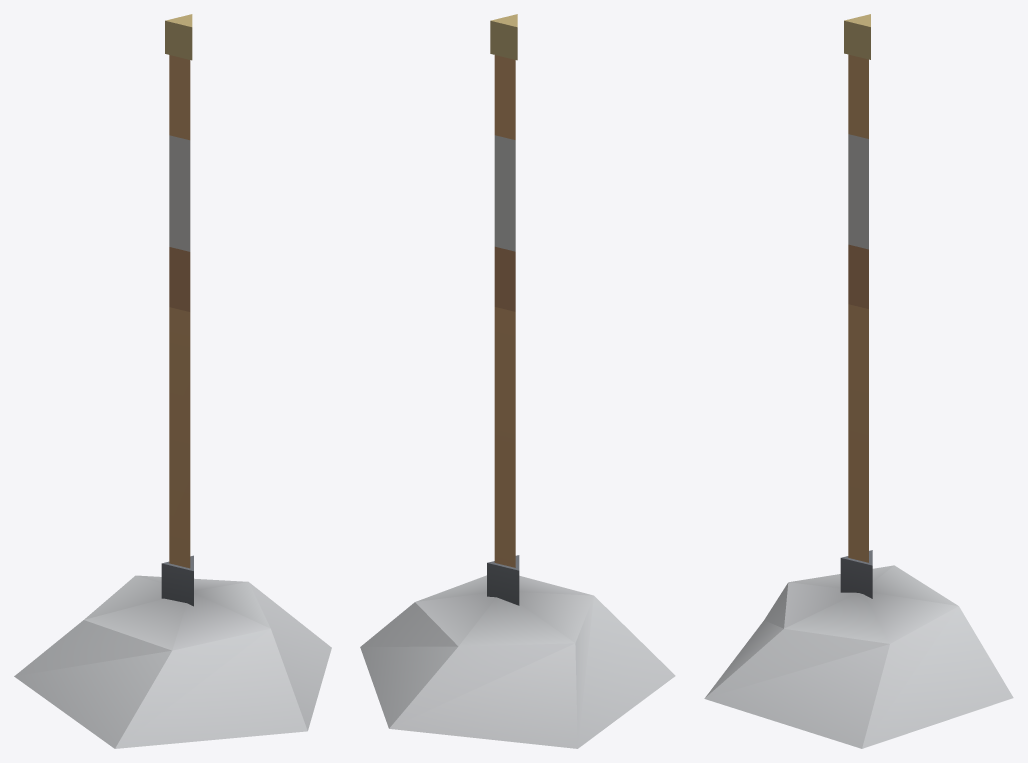
File: marker.lod2.glb
3 views of the same model, side by side, from view 1: azimuth 30°, elevation 25°; view 2: azimuth 150°, elevation 25°; view 3: azimuth 270°, elevation 25° (orthographic).
Size of the model in its own units: 0.93 by 2.2 by 0.9399.
